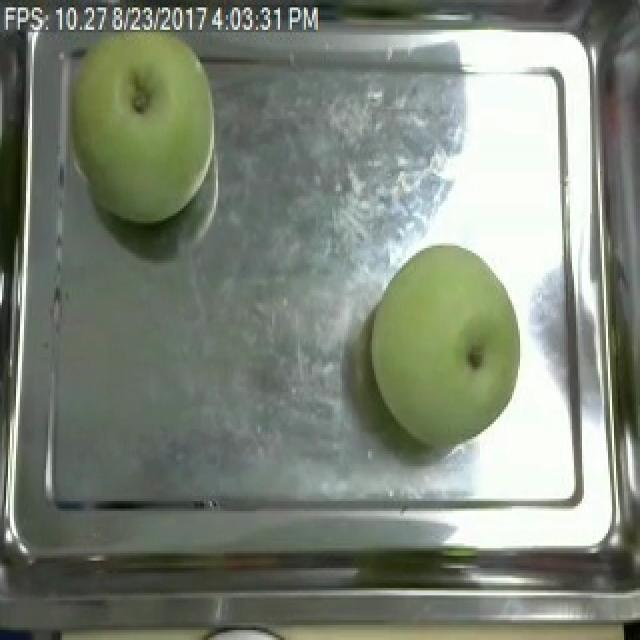50-_ripeness: (361, 226, 528, 459), (62, 24, 226, 239)
